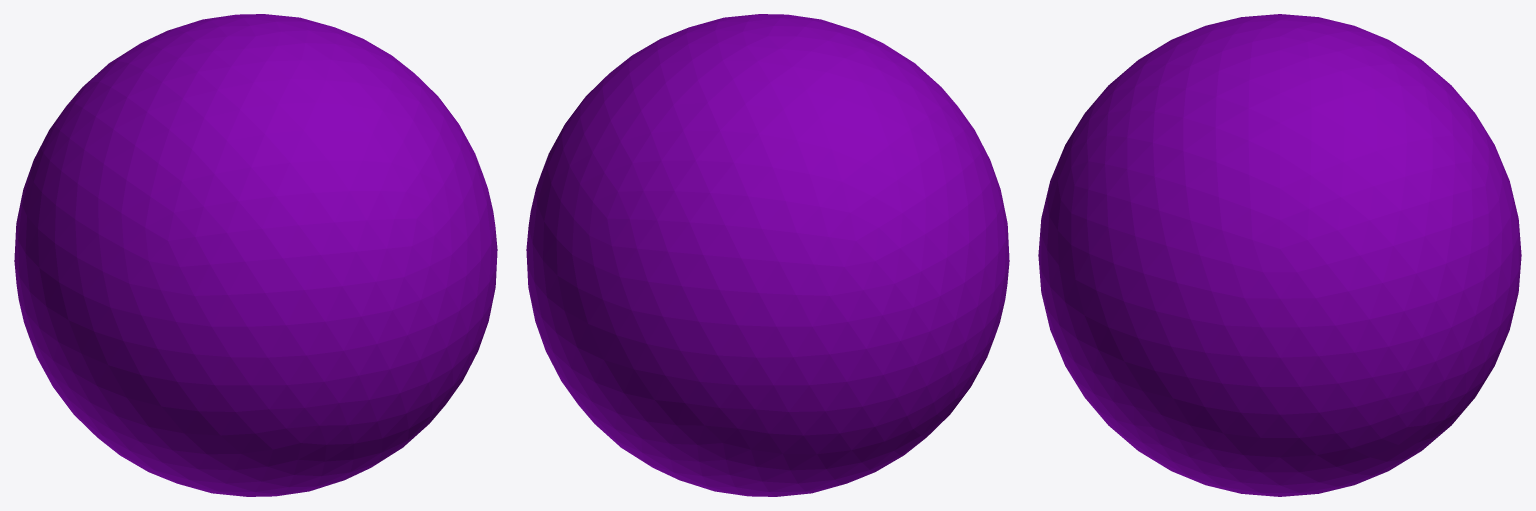
File: SISTEMA SOLAR.fbx
3 renders of one model, left to right at view 1: azimuth 30°, elevation 25°; view 2: azimuth 150°, elevation 25°; view 3: azimuth 270°, elevation 25°, orthographic.
Parts seen in each view (by area): view 1: espaço; view 2: espaço; view 3: espaço.
Part boxes in pixels (x1=…): espaço: x1=14, y1=14, x2=497, y2=496; espaço: x1=526, y1=14, x2=1009, y2=496; espaço: x1=1038, y1=14, x2=1521, y2=496.
Bounding box in the file's own units: 33170 × 33170 × 33170.
